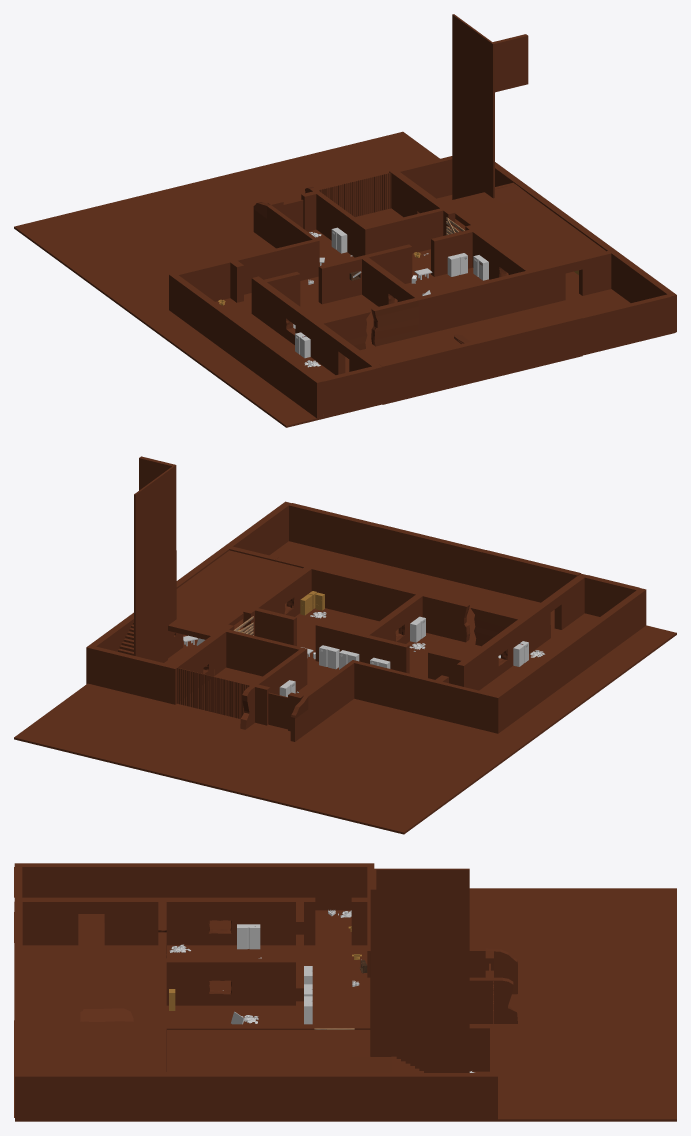
Rendered from level0.fbx.
3 renders of one model, top to bottom at view 1: azimuth 30°, elevation 25°; view 2: azimuth 150°, elevation 25°; view 3: azimuth 270°, elevation 25°, orthographic. The views are drawn at different scales.
Visible parts, largest first — view 1: Chao, escadas, plantaCasa.037, plantaCasa.005, plantaCasa.036, plantaCasa.035, plantaCasa, plantaCasa.011, plantaCasa.040, plantaCasa.014, plantaCasa.017, plantaCasa.010 (+18 smaller); view 2: Chao, escadas, plantaCasa, plantaCasa.037, plantaCasa.035, plantaCasa.005, plantaCasa.036, plantaCasa.017, plantaCasa.031, plantaCasa.011, plantaCasa.040, plantaCasa.014 (+20 smaller); view 3: Chao, escadas, plantaCasa.038, plantaCasa.007, plantaCasa.039, plantaCasa.032, plantaCasa.033, plantaCasa.010, plantaCasa.014, plantaCasa.040, plantaCasa.034, plantaCasa (+13 smaller).
Boxes of the visible parts, <box> form: Chao: <box>14,131,675,427</box>; escadas: <box>442,14,605,268</box>; plantaCasa.037: <box>475,315,582,381</box>; plantaCasa.005: <box>422,271,529,334</box>; plantaCasa.036: <box>379,341,477,404</box>; plantaCasa.035: <box>579,294,670,355</box>; plantaCasa: <box>169,173,449,335</box>; plantaCasa.011: <box>320,298,418,350</box>; plantaCasa.040: <box>254,335,323,419</box>; plantaCasa.014: <box>172,275,239,356</box>; plantaCasa.017: <box>235,238,319,294</box>; plantaCasa.010: <box>256,280,319,358</box>; Chao: <box>14,541,676,834</box>; escadas: <box>118,456,302,662</box>; plantaCasa: <box>86,592,500,741</box>; plantaCasa.037: <box>377,524,484,588</box>; plantaCasa.035: <box>289,503,380,562</box>; plantaCasa.005: <box>311,566,418,621</box>; plantaCasa.036: <box>482,550,580,602</box>; plantaCasa.017: <box>350,660,434,717</box>; plantaCasa.031: <box>92,646,170,702</box>; plantaCasa.011: <box>422,593,520,646</box>; plantaCasa.040: <box>577,588,646,670</box>; plantaCasa.014: <box>494,649,562,731</box>; Chao: <box>15,888,676,1121</box>; escadas: <box>167,868,469,1072</box>; plantaCasa.038: <box>15,1073,166,1121</box>; plantaCasa.007: <box>166,958,303,1005</box>; plantaCasa.039: <box>14,897,166,945</box>; plantaCasa.032: <box>369,1073,489,1121</box>; plantaCasa.033: <box>248,1073,368,1121</box>; plantaCasa.010: <box>166,897,303,945</box>; plantaCasa.014: <box>218,863,367,910</box>; plantaCasa.040: <box>14,863,166,897</box>; plantaCasa.034: <box>166,1073,247,1121</box>; plantaCasa: <box>158,863,517,1121</box>.
Bounding box in the file's own units: 4661 × 2463 × 5636.
